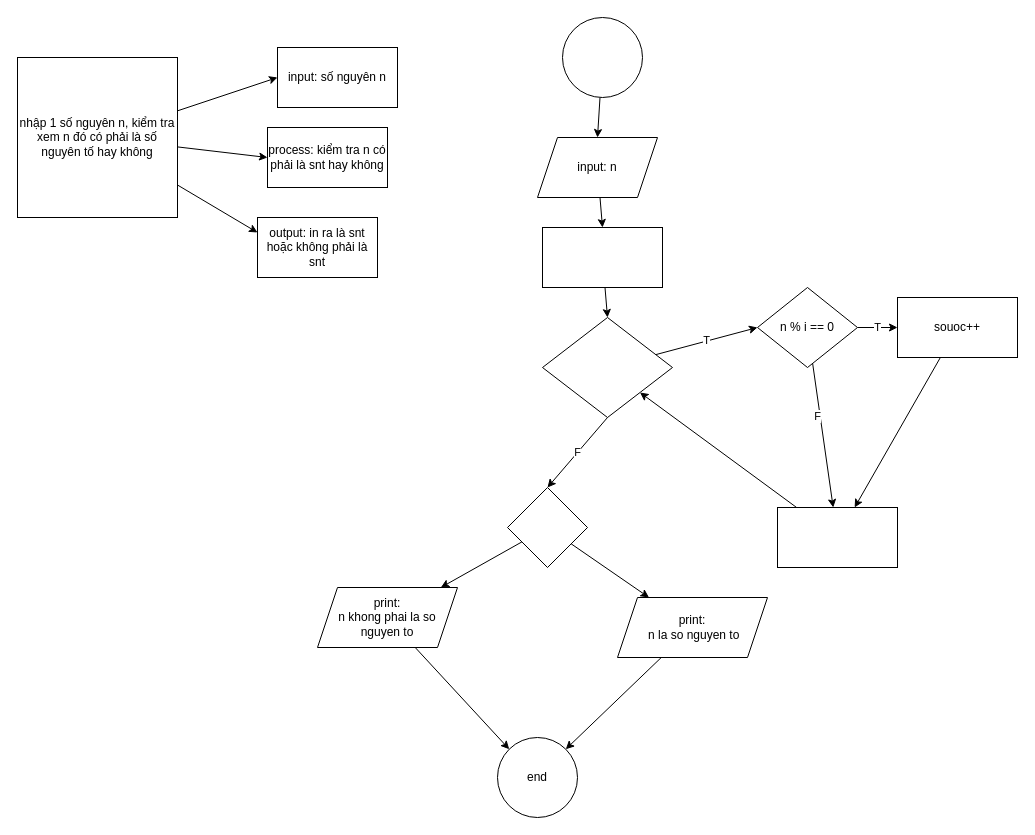
Image size: 1035x835. Some labels were removed from this diagram. The centre of each missing label's shape, as x and y in pixels:
i <= n: (607,367)
i++: (837,537)
souoc = 0 i = 1: (602,257)
souoc == 2: (547,527)
start: (602,57)
